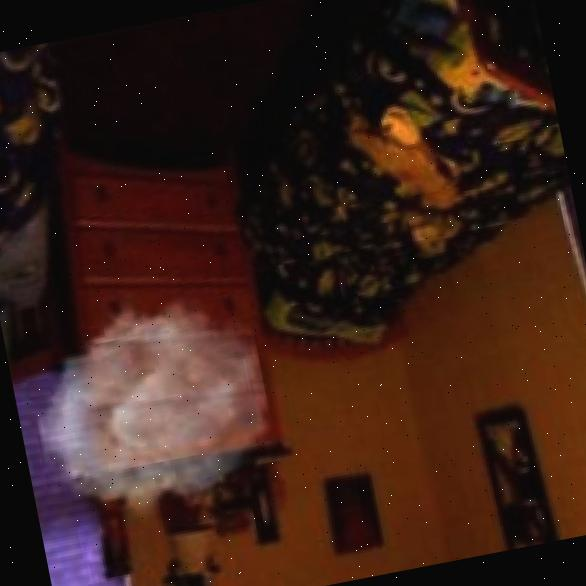smoke: (17, 277, 285, 538)
